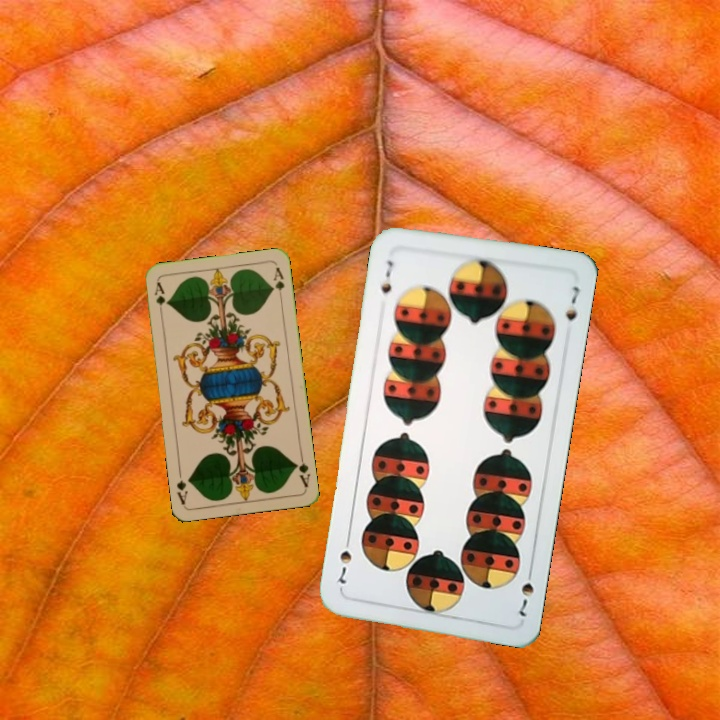GA: (291, 450, 312, 490), (150, 278, 169, 318)
S7: (515, 563, 536, 619), (376, 256, 396, 298)
